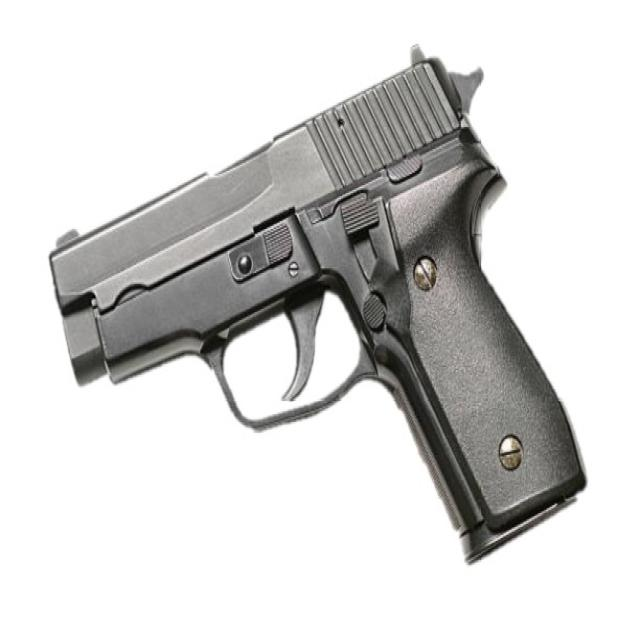pistol: (46, 44, 591, 567)
